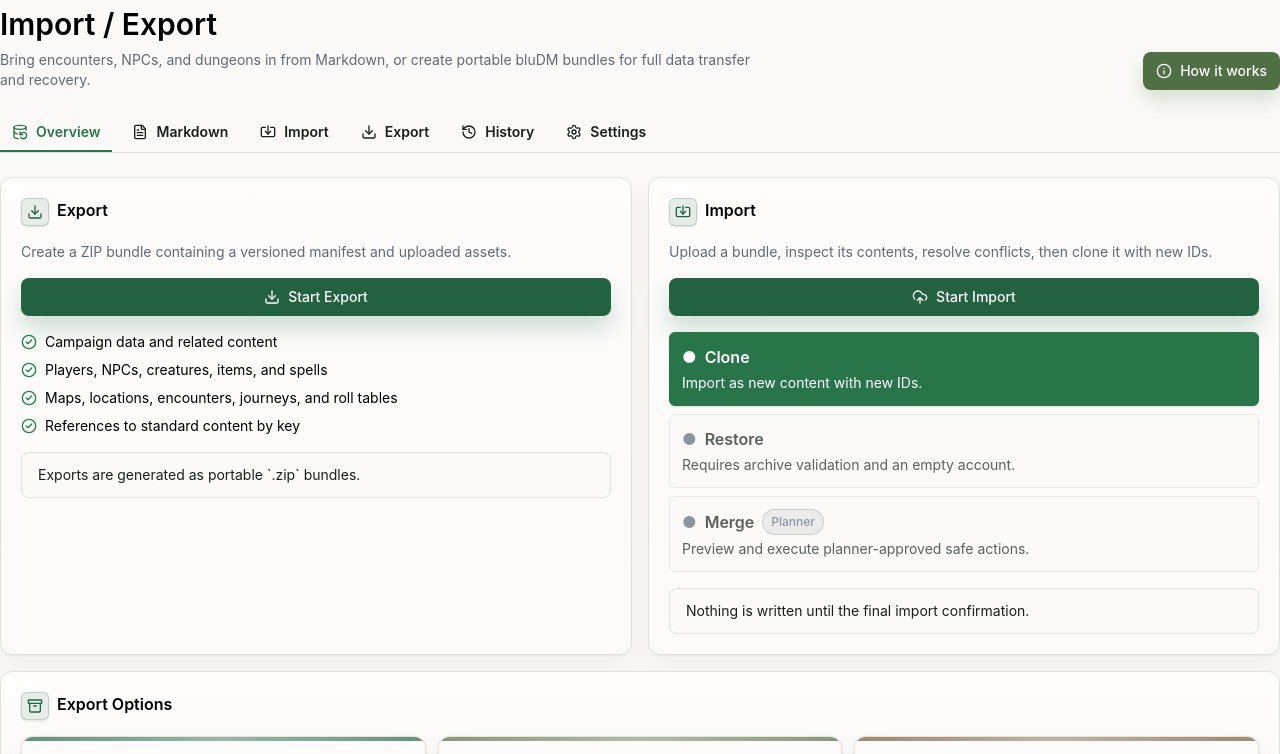
Test case: ImportPage › renders the export builder and keeps custom bundles disabled
The width and height of the screenshot is (1280, 754).
Click the button "Export". click: (395, 133)
box: x1=349 y1=114 x2=441 y2=152
(page scrolled)
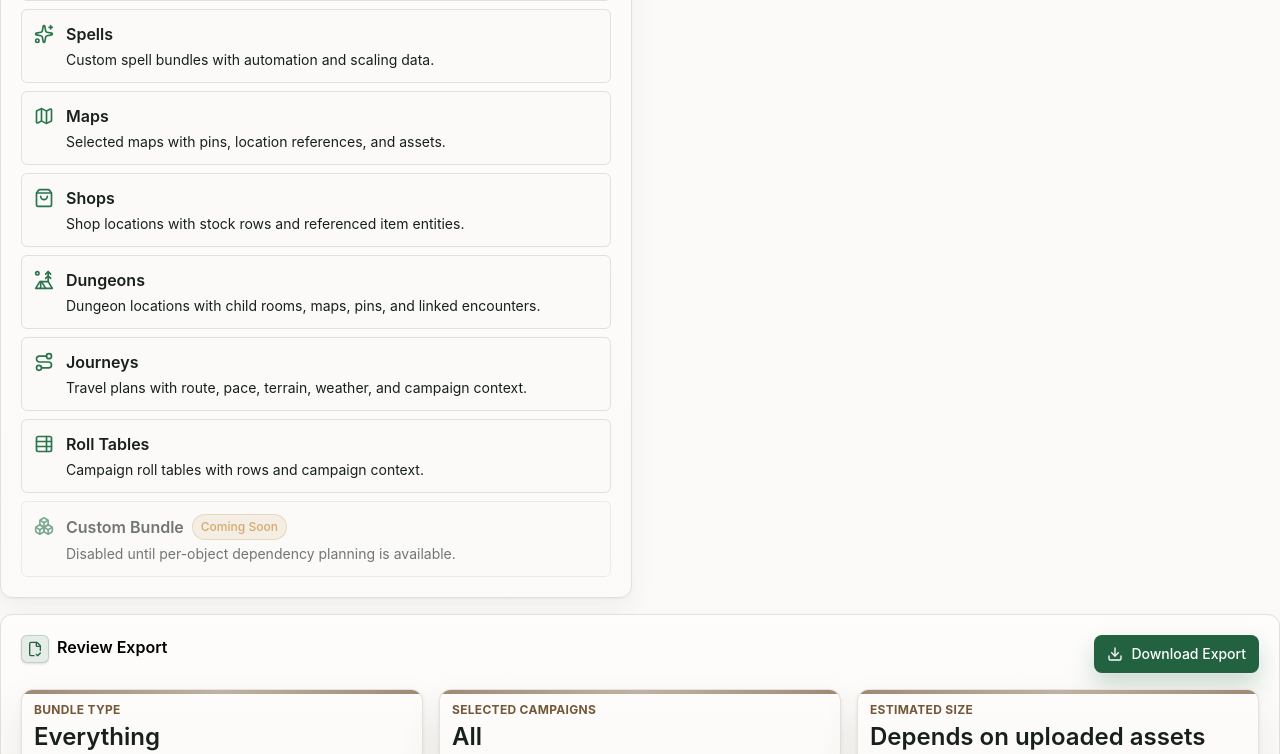
Expected: the button "Journeys" is enabled, x1=21 y1=337 x2=611 y2=411
Now the button "Custom Bundle" is disabled, box x1=21 y1=501 x2=611 y2=577
